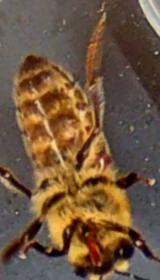varroa_mite: (69, 149, 121, 183)
